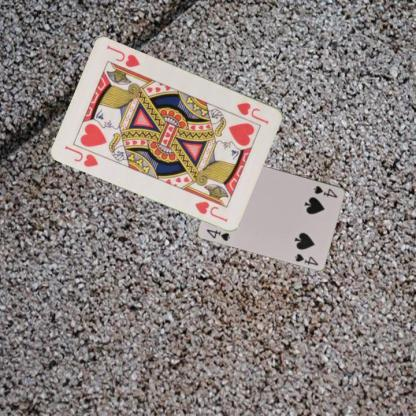4s: (204, 227, 232, 242), (312, 183, 338, 199)
Jh: (62, 142, 100, 168), (234, 99, 270, 126)
